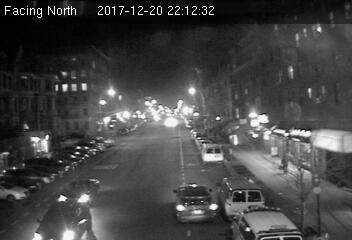car: (35, 200, 91, 240), (171, 184, 218, 221), (57, 178, 102, 210)
police: (237, 206, 304, 240), (220, 175, 268, 220)
truck: (202, 141, 224, 164)
